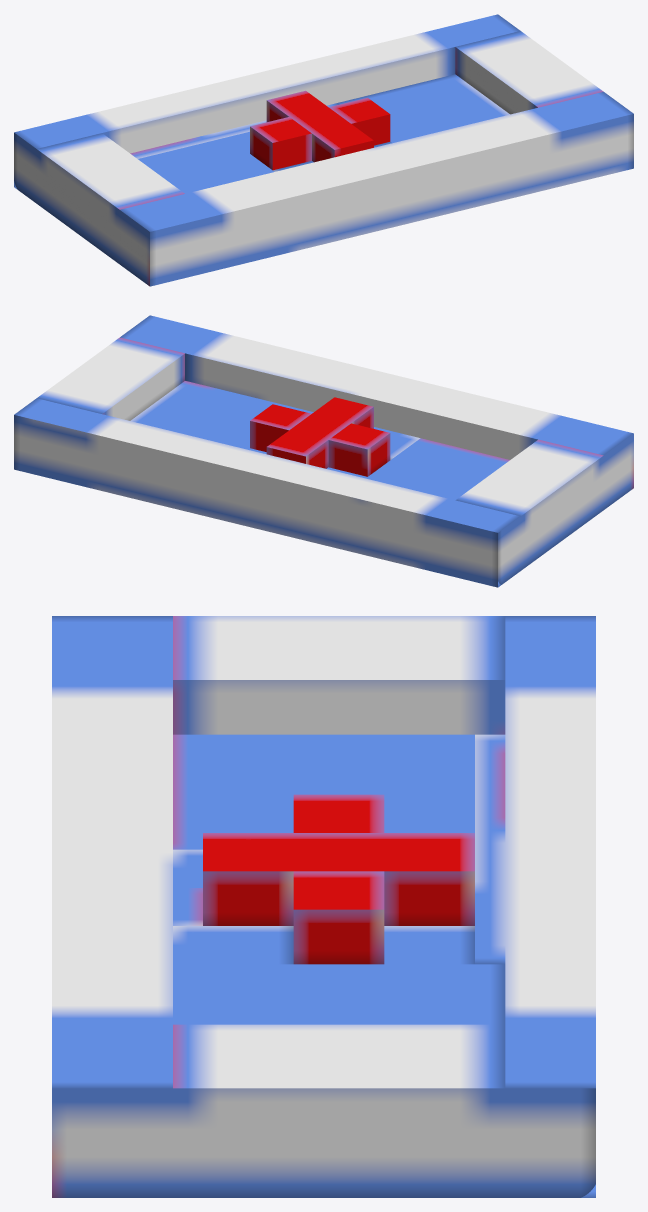
File: medkit.dae
The picture shows the model from 3 angles, top to bottom: view 1: azimuth 30°, elevation 25°; view 2: azimuth 150°, elevation 25°; view 3: azimuth 270°, elevation 25°; orthographic projection. The views are drawn at different scales.
Parts seen in each view (by area): view 1: medkit; view 2: medkit; view 3: medkit.
Boxes of the visible parts, box(x1,y1,x2,y2) form: medkit: box(14, 14, 633, 286); medkit: box(14, 315, 633, 587); medkit: box(52, 616, 595, 1197).
Size of the model in its own units: 37 by 4 by 18.
Materials: 1 (1 with a texture image).
